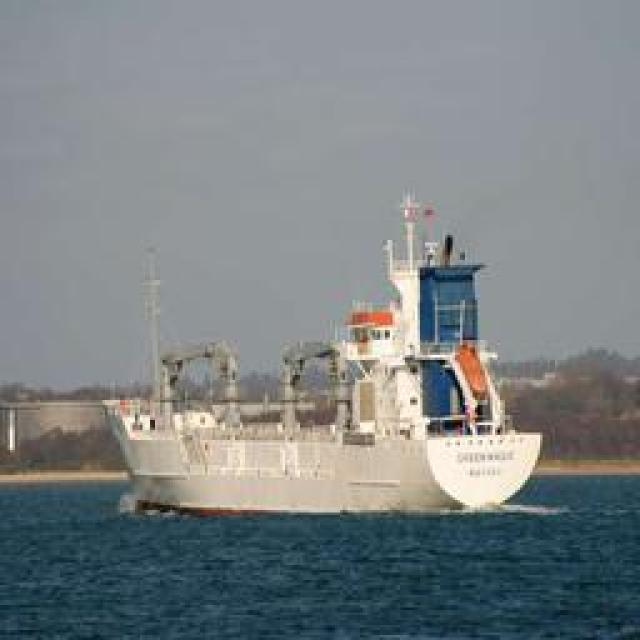CIV_Ship: (104, 190, 554, 520)
